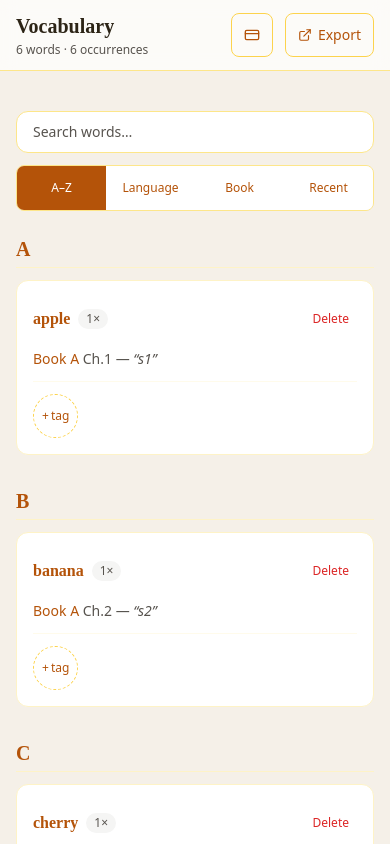
Test: VocabularyPage — search input onChange (line 113) › renders search input when words.length > 5 and typing filters words
This screenshot has width=390, height=844.
Expected: the button "apple" is shown, [33,297,70,341]
# Type something to trigger onChange → setSearch
Type "app" into the search field with placeholder "Search words…" at (195, 132), box [16,111,374,153]
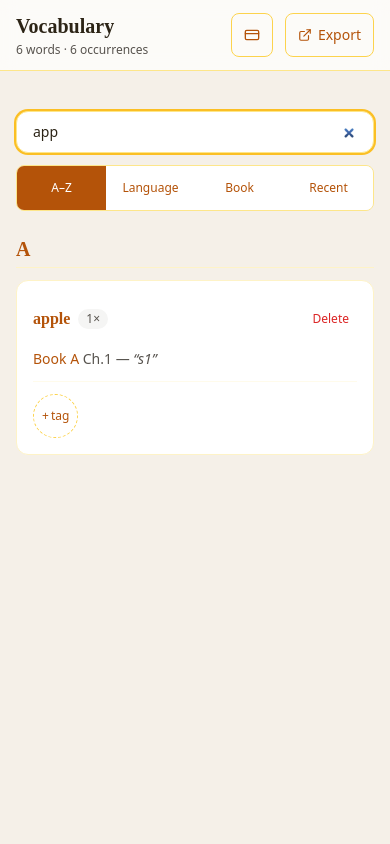
Expected: the button "apple" is shown, [33,297,70,341]
Result: the button "banana" is gone
